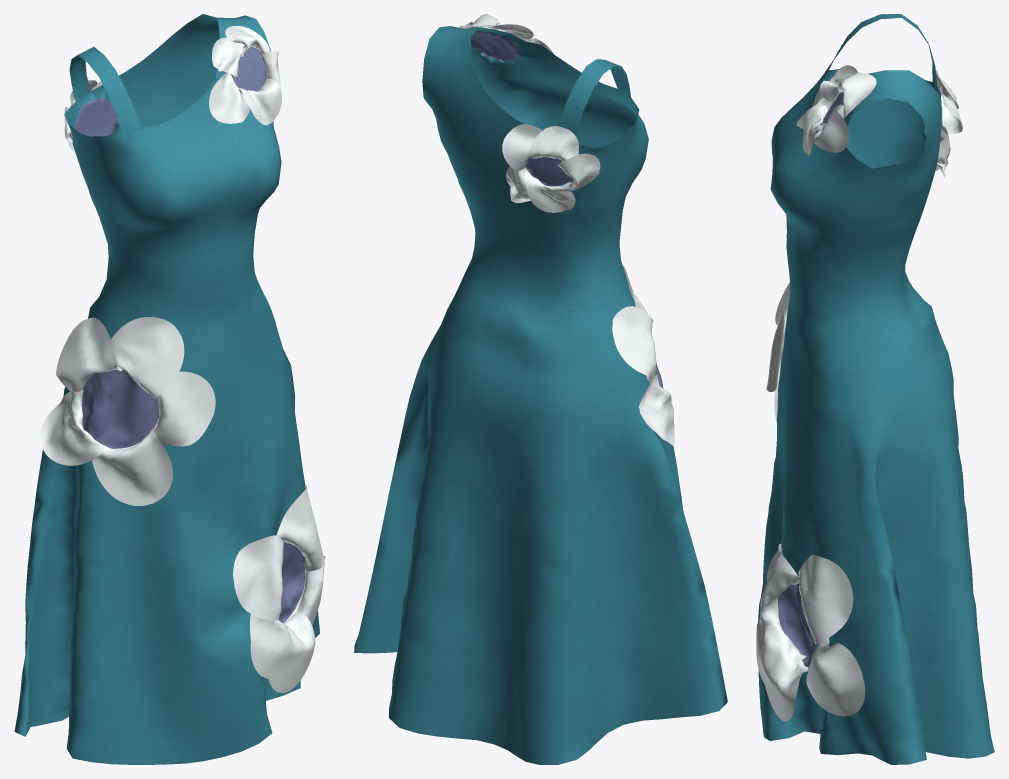
The model's file is dress.glb.
The picture shows the model from 3 angles, left to right: view 1: azimuth 30°, elevation 25°; view 2: azimuth 150°, elevation 25°; view 3: azimuth 270°, elevation 25°; orthographic projection.
Parts seen in each view (by area): view 1: Object_2, Object_7, Object_3; view 2: Object_2, Object_7, Object_3; view 3: Object_2, Object_7, Object_3.
Part boxes in pixels (x1,y1,x2,y2): Object_2: (14, 14, 319, 764); Object_7: (40, 26, 325, 692); Object_3: (75, 46, 305, 622); Object_2: (354, 26, 727, 764); Object_7: (459, 14, 674, 445); Object_3: (470, 31, 663, 387); Object_2: (758, 14, 994, 764); Object_7: (756, 65, 962, 721); Object_3: (778, 92, 927, 666).
Size of the model in its own units: 0.5702 by 1.11 by 0.3509.
4 materials, 4 textured.
